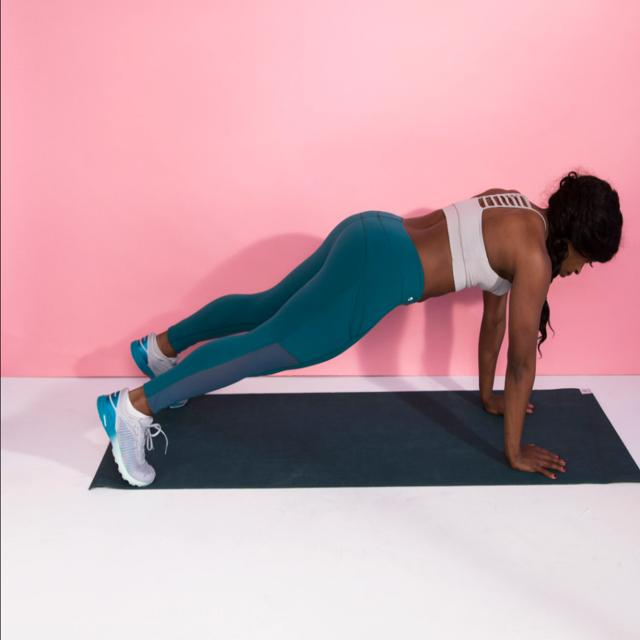Plank_Pose: (100, 173, 625, 487)
